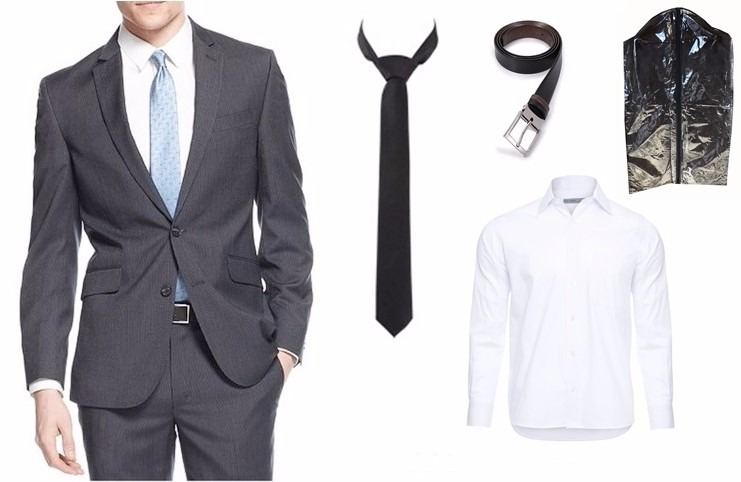F_M_suit jacket: (19, 36, 313, 404)
F_belt: (161, 289, 203, 327)
F_dress pants: (75, 325, 287, 480)
F_tie: (351, 16, 443, 344), (144, 49, 184, 210)
